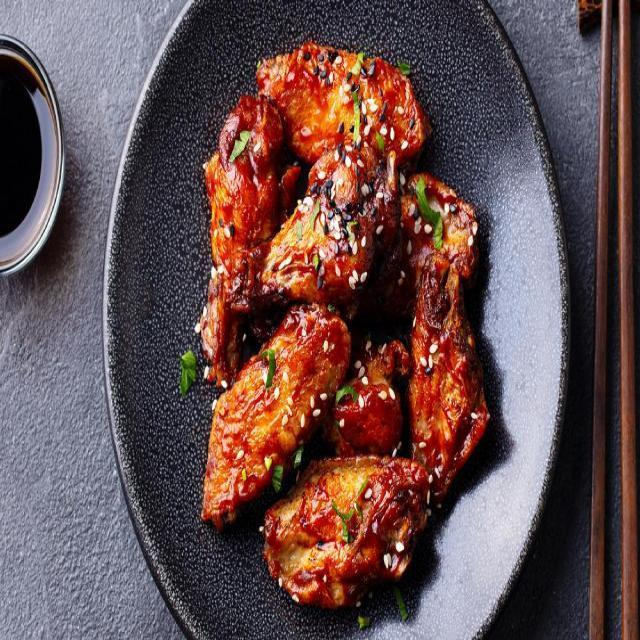chicken: (199, 42, 489, 606)
